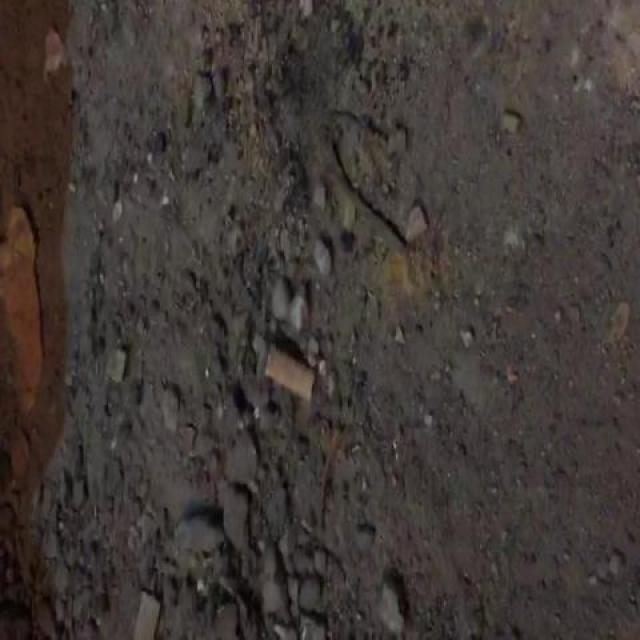non-organic waste: (255, 339, 321, 402)
